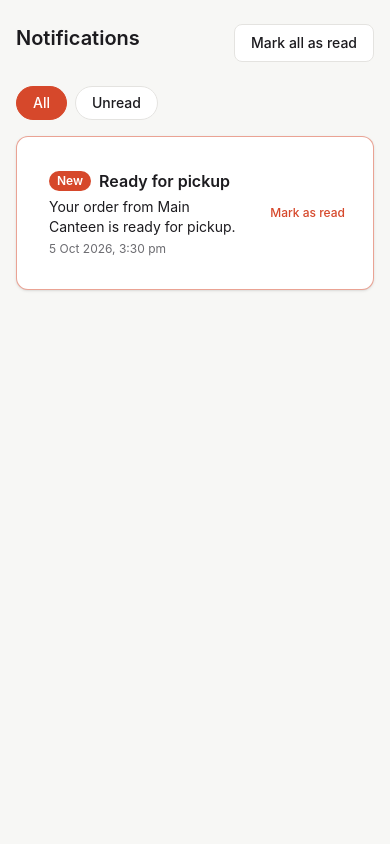
NotificationsView — mark one read › in the Unread list a notification leaves once the backend says it is read
This screenshot has width=390, height=844.
Click the button "Unread" at (116, 103), box [75, 86, 158, 120]
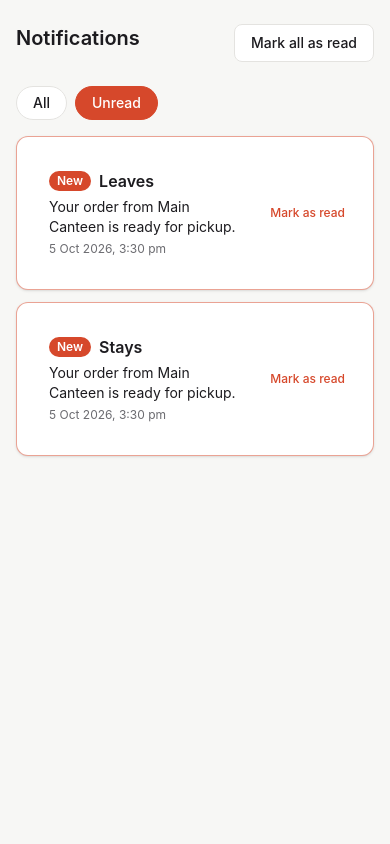
Check: the text "Leaves" is shown, box [99, 169, 154, 193]
Click the button named "Mark \"Leaves\" as read" at (308, 213), box [258, 197, 357, 229]
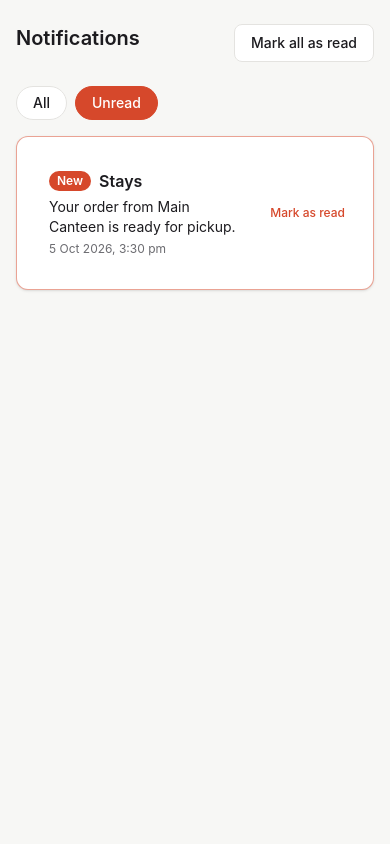
Check: the text "Stays" is shown, box [99, 169, 142, 193]
Check: the button "Leaves" is gone
